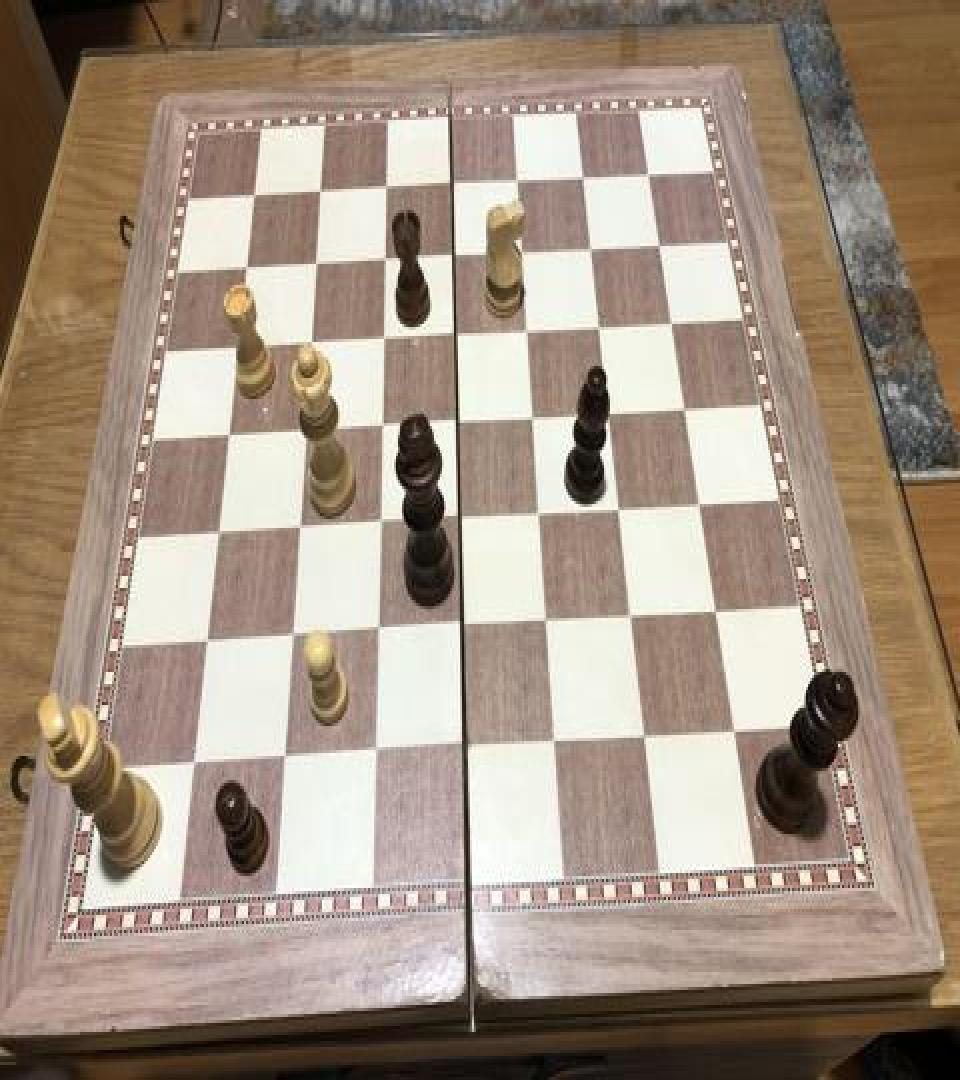xcorner: (452, 610, 476, 647), (367, 616, 391, 653), (722, 712, 746, 749), (633, 718, 657, 755), (274, 742, 298, 779), (183, 748, 207, 785), (641, 160, 665, 196), (575, 164, 599, 200), (509, 166, 533, 202), (443, 171, 467, 207), (377, 174, 401, 210), (310, 177, 334, 213), (243, 182, 267, 218), (651, 231, 675, 267), (582, 236, 606, 272), (514, 238, 538, 274), (444, 243, 468, 279), (375, 246, 399, 282), (306, 250, 330, 286), (236, 254, 260, 290), (663, 309, 687, 345), (591, 314, 615, 350), (519, 316, 543, 352), (446, 321, 470, 357), (373, 326, 397, 362), (300, 330, 324, 366), (227, 333, 251, 369), (675, 394, 699, 430), (600, 399, 624, 435), (524, 404, 548, 440), (448, 408, 472, 444), (295, 417, 319, 453), (218, 422, 242, 458), (689, 489, 713, 525), (610, 494, 634, 530), (530, 500, 554, 536), (450, 504, 474, 540), (369, 508, 393, 544), (289, 513, 313, 549), (208, 519, 232, 555), (705, 594, 729, 630), (621, 600, 645, 636), (537, 604, 561, 640), (282, 621, 306, 657), (196, 627, 220, 663), (544, 724, 568, 760), (455, 730, 479, 766), (365, 736, 389, 772), (372, 413, 396, 448)
